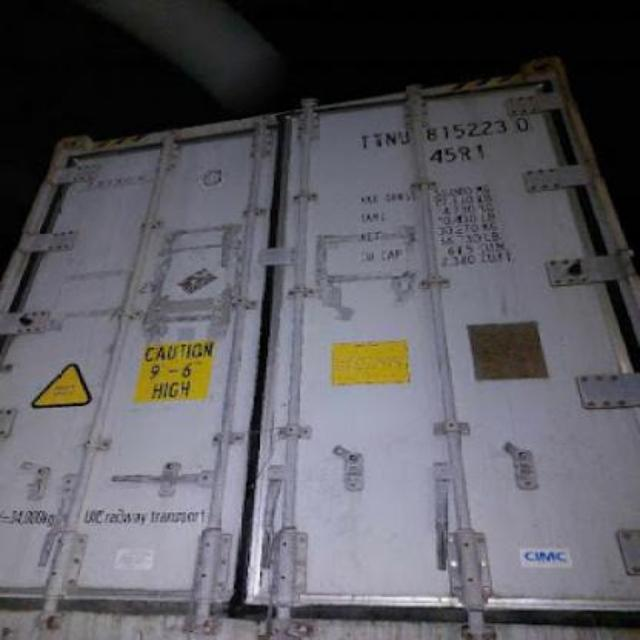0: (512, 112, 534, 136)
1: (438, 121, 452, 142)
2: (464, 115, 480, 141), (481, 115, 494, 136)
3: (494, 114, 508, 136)
5: (450, 118, 466, 142)
8: (424, 121, 438, 142)
N: (384, 126, 398, 152)
T: (356, 127, 369, 153), (371, 127, 384, 153)
U: (396, 124, 412, 148)
